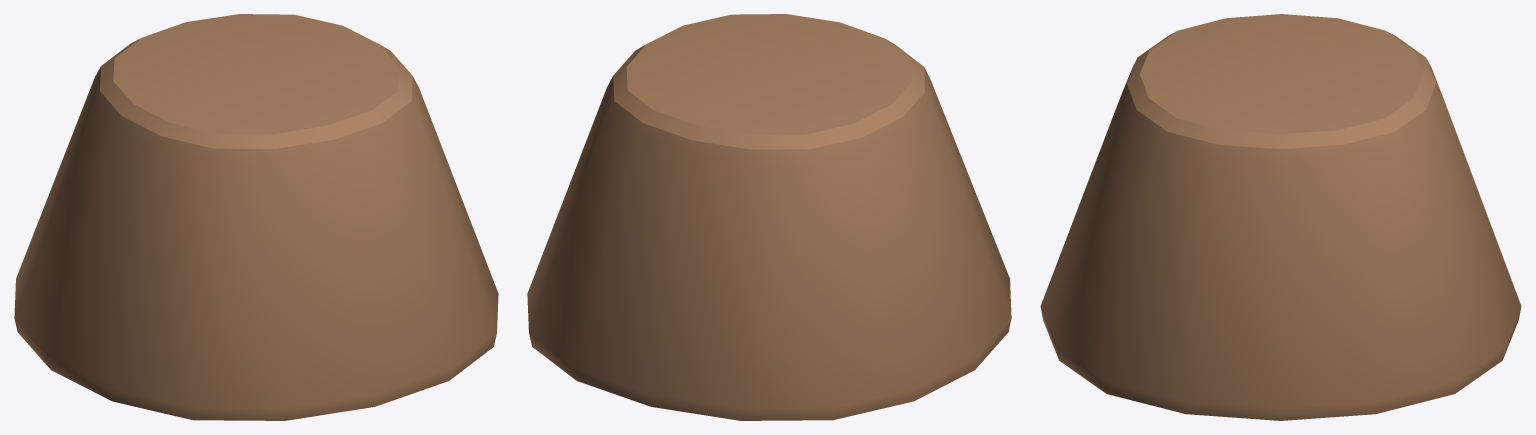
Rendered from RockPlatforms_Medium.gltf.
The picture shows the model from 3 angles, left to right: view 1: azimuth 30°, elevation 25°; view 2: azimuth 150°, elevation 25°; view 3: azimuth 270°, elevation 25°; orthographic projection.
Parts seen in each view (by area): view 1: RockPlatforms_Medium; view 2: RockPlatforms_Medium; view 3: RockPlatforms_Medium.
Part boxes in pixels (x1,y1,x2,y2): RockPlatforms_Medium: (14, 14, 498, 420); RockPlatforms_Medium: (527, 14, 1011, 420); RockPlatforms_Medium: (1040, 14, 1521, 420).
Bounding box in the file's own units: 4.81 × 2.91 × 4.81.
